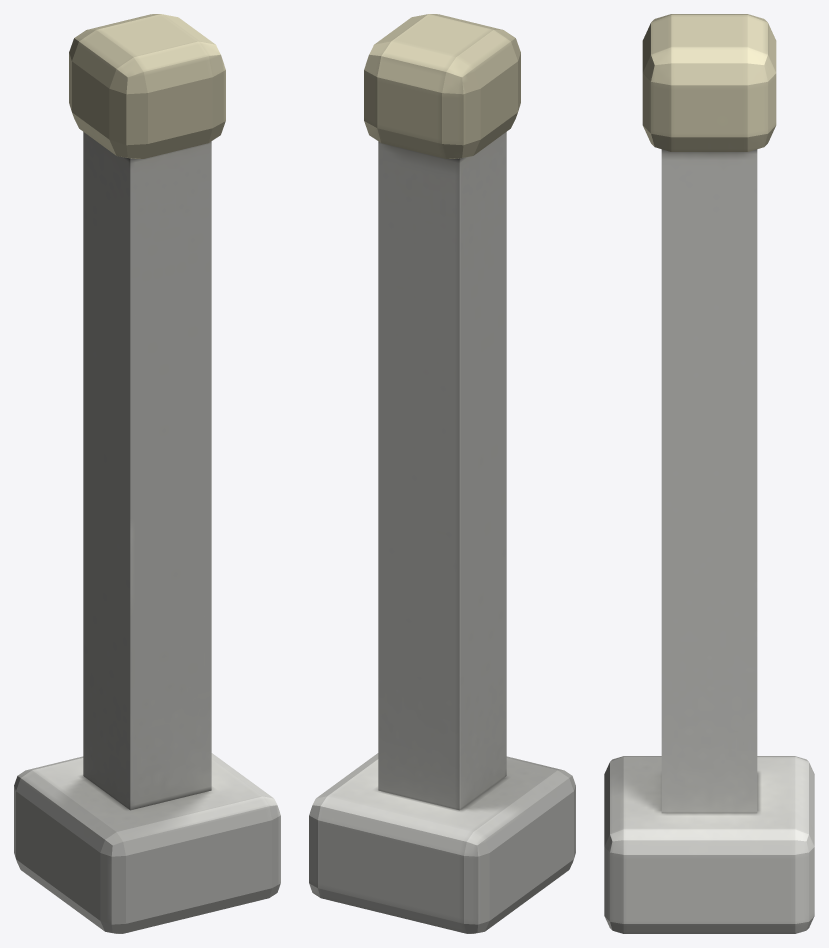
File: endrod.glb
3 views of the same model, side by side, from view 1: azimuth 30°, elevation 25°; view 2: azimuth 150°, elevation 25°; view 3: azimuth 270°, elevation 25° (orthographic).
Parts seen in each view (by area): view 1: endrod; view 2: endrod; view 3: endrod.
Part boxes in pixels (left/top/right/bottom): endrod: left=14, top=14, right=280, bottom=933; endrod: left=309, top=14, right=575, bottom=933; endrod: left=604, top=14, right=814, bottom=933.
Bounding box in the file's own units: 0.22 × 1 × 0.22.
Materials: 2 (2 with a texture image).
